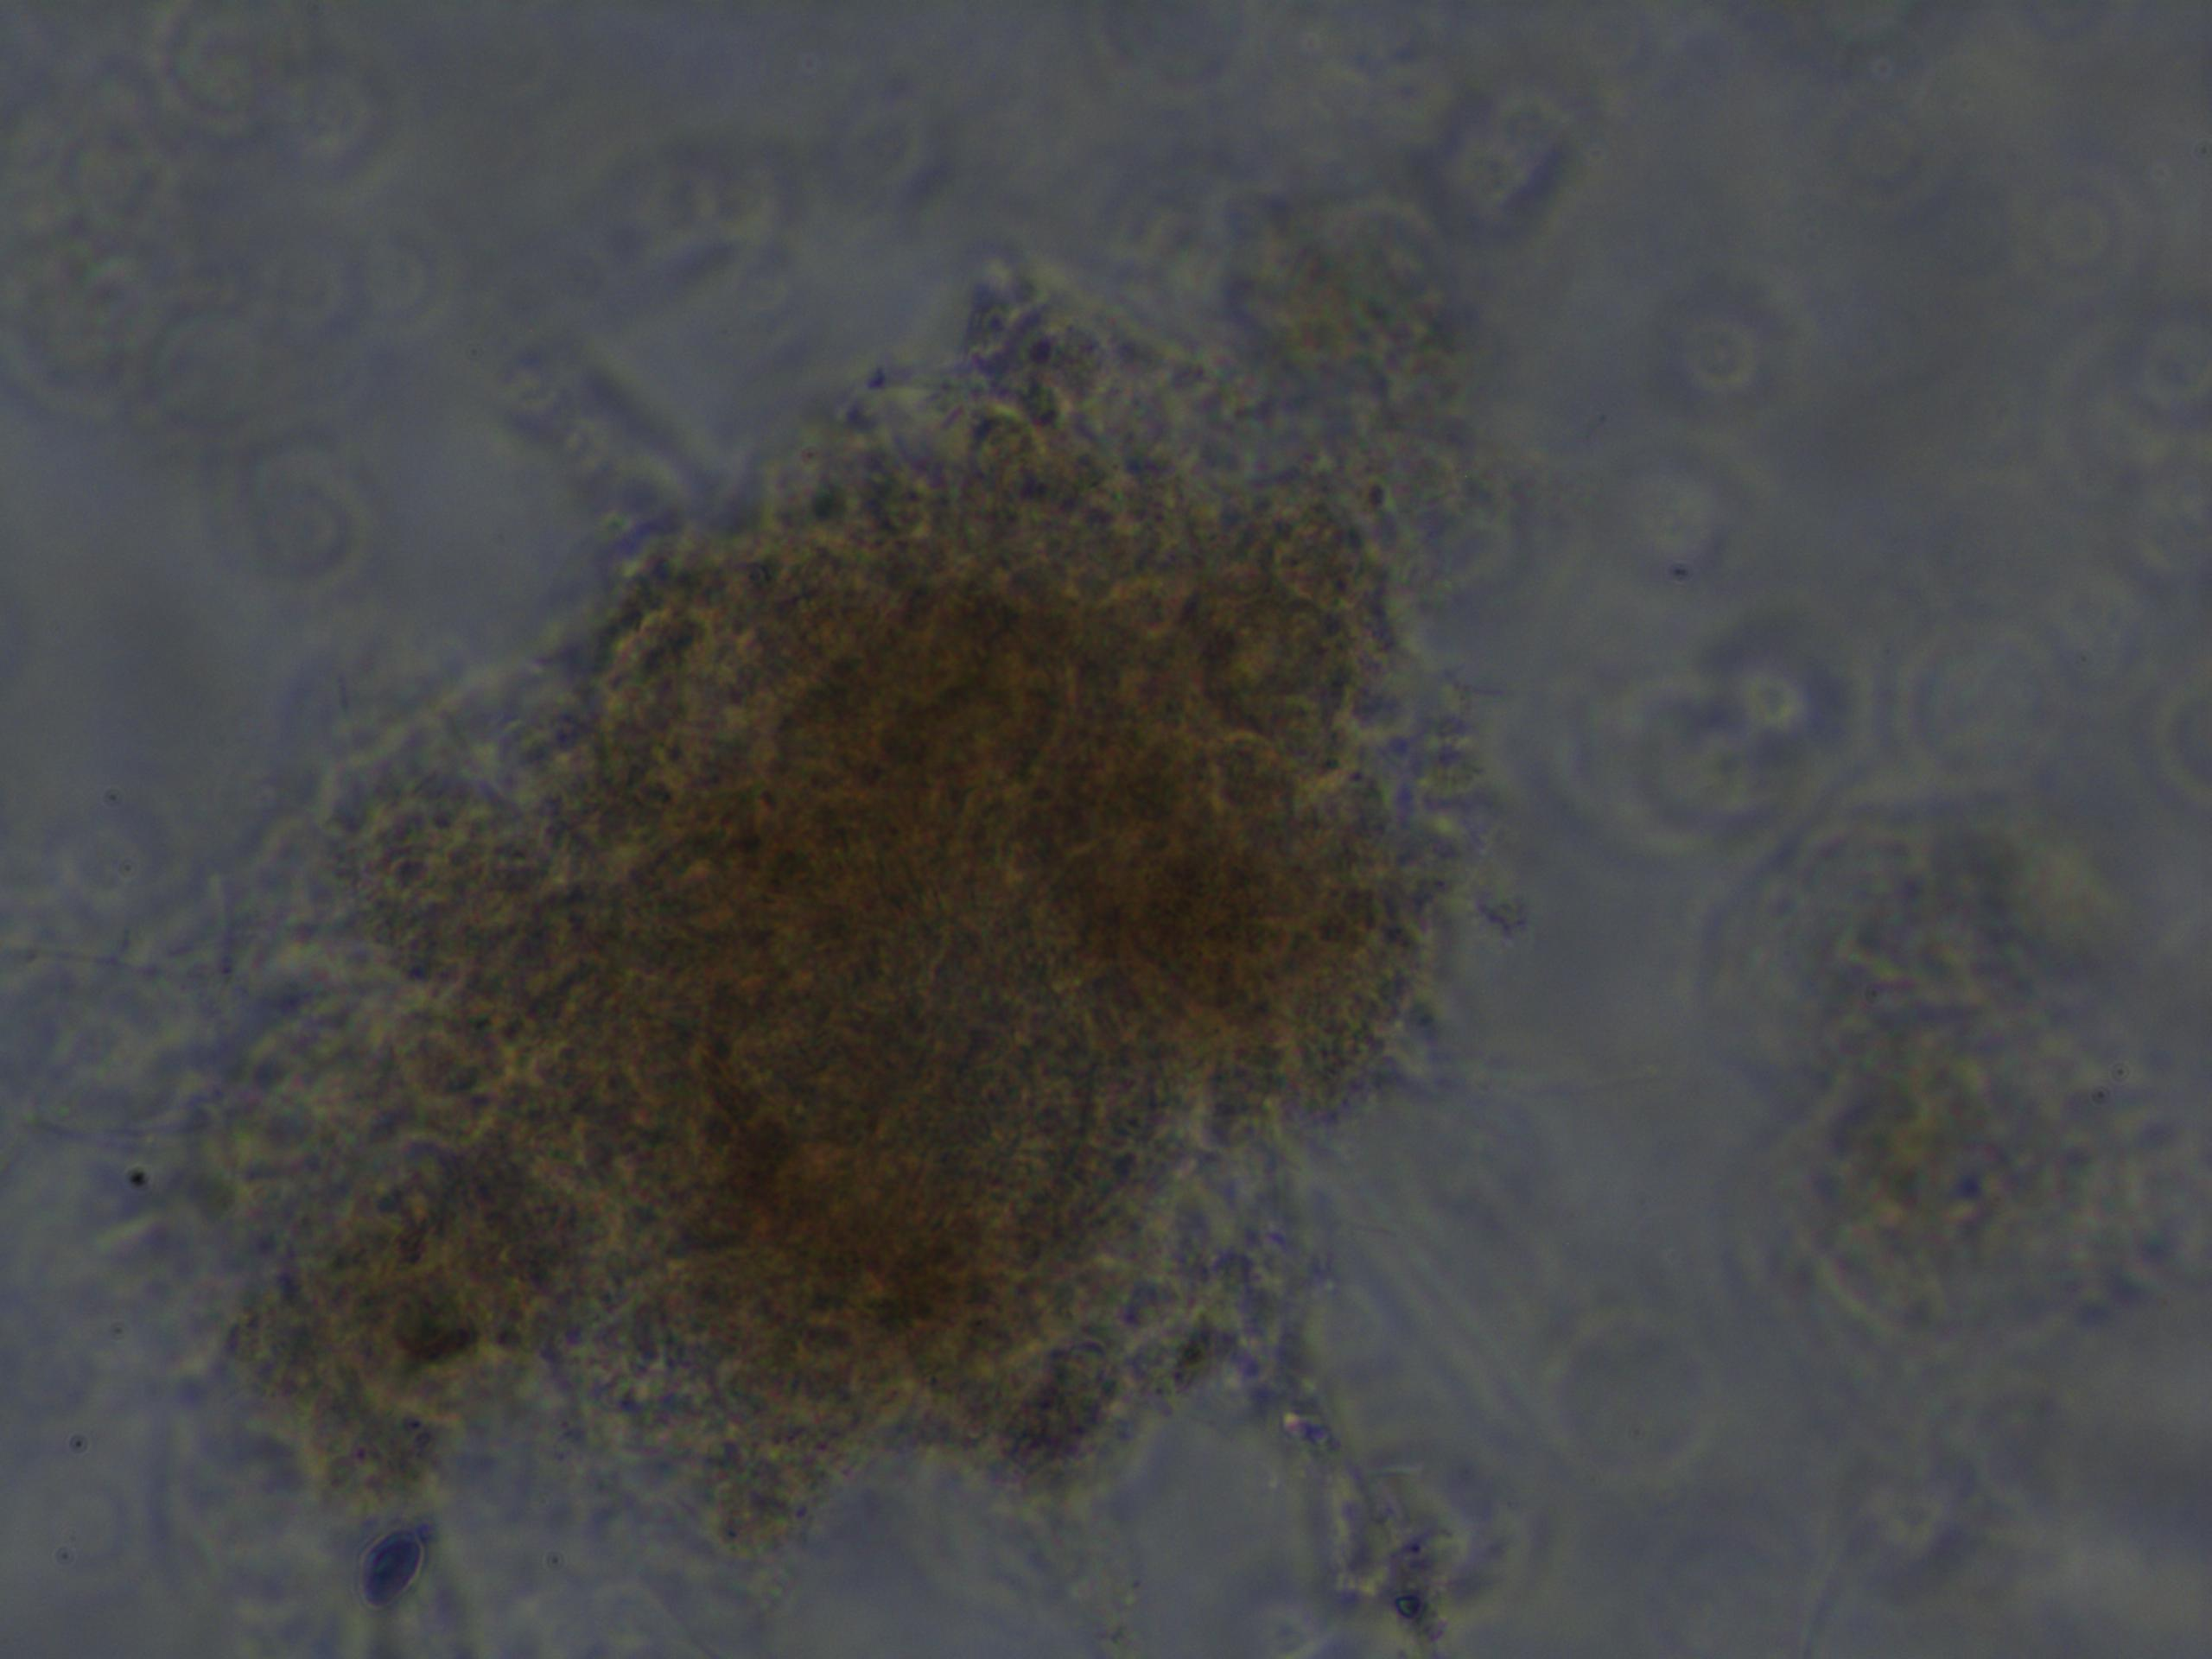spherical_floc: (230, 295, 1475, 1547)
